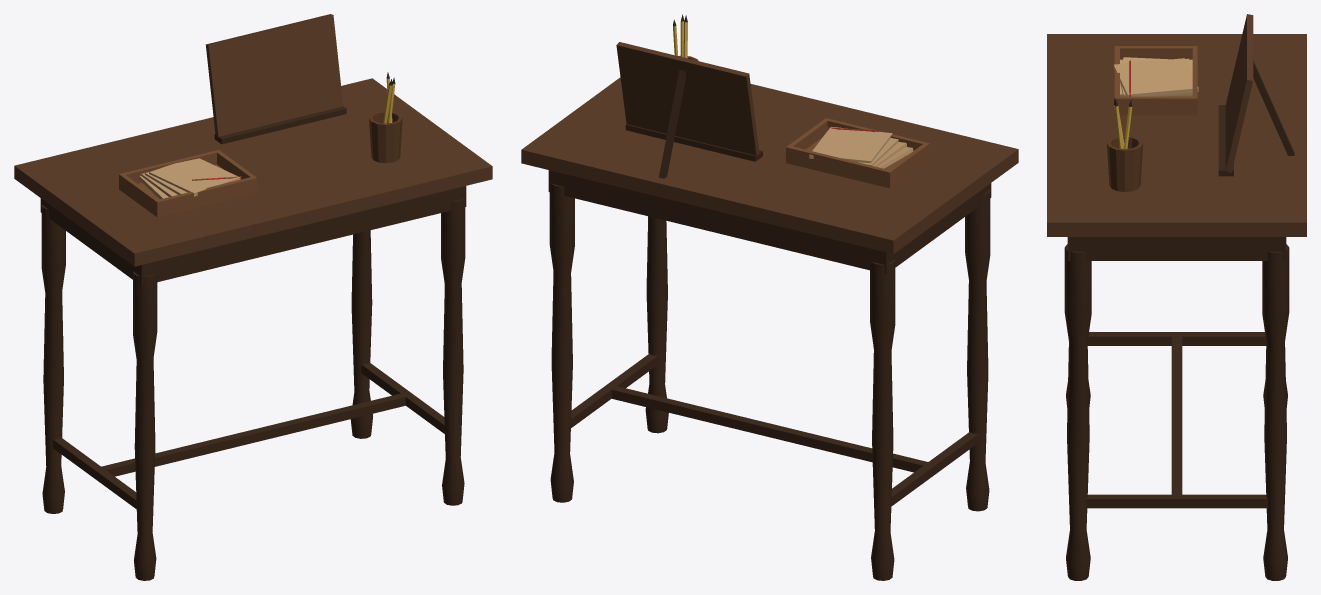
The model's file is prayer-church-desk.glb.
The picture shows the model from 3 angles, left to right: view 1: azimuth 30°, elevation 25°; view 2: azimuth 150°, elevation 25°; view 3: azimuth 270°, elevation 25°; orthographic projection. The views are drawn at different scales.
Visible parts, largest first — view 1: oak0, oak21, oakDark1, oakDark2_mx, oakDark2, oakDark2_mx_mz, oakDark4, box5, oakDark2_mz, plaque9, planterDark11, oakDark3_mx (+2 smaller); view 2: oak0, oak21, oakDark1, oakDark2_mx_mz, oakDark2_mz, oakDark2_mx, oakDark4, oakDark2, box5, plaque9, oakDark3_mx, oakDark3 (+2 smaller); view 3: oak0, oakDark2, oakDark2_mz, oakDark1, box5, oakDark3, oak21, plaque9, oakDark3_mx, oakDark4, planterDark11, oakDark22 (+1 smaller).
Part boxes in pixels (x1,y1,x2,y2): oak0: [14, 78, 492, 266]; oak21: [205, 14, 343, 137]; oakDark1: [40, 186, 466, 285]; oakDark2_mx: [133, 271, 157, 580]; oakDark2: [441, 198, 465, 505]; oakDark2_mx_mz: [41, 205, 65, 513]; oakDark4: [97, 392, 409, 476]; box5: [119, 150, 257, 217]; oakDark2_mz: [350, 230, 372, 438]; plaque9: [149, 158, 240, 196]; planterDark11: [369, 111, 402, 163]; oakDark3_mx: [53, 437, 136, 508]; oak0: [521, 77, 1018, 253]; oak21: [616, 42, 759, 155]; oakDark1: [548, 170, 991, 274]; oakDark2_mx_mz: [870, 259, 895, 580]; oakDark2_mz: [549, 183, 574, 502]; oakDark2_mx: [965, 190, 990, 511]; oakDark4: [611, 386, 932, 472]; oakDark2: [645, 216, 668, 433]; box5: [786, 118, 929, 188]; plaque9: [809, 127, 892, 162]; oakDark3_mx: [891, 432, 978, 506]; oakDark3: [571, 353, 657, 427]; oak0: [1047, 34, 1306, 236]; oakDark2: [1064, 244, 1091, 580]; oakDark2_mz: [1262, 244, 1289, 580]; oakDark1: [1068, 237, 1285, 260]; box5: [1114, 46, 1197, 115]; oakDark3: [1085, 494, 1268, 508]; oak21: [1225, 14, 1253, 172]; plaque9: [1113, 58, 1198, 96]; oakDark3_mx: [1087, 332, 1266, 345]; oakDark4: [1171, 336, 1182, 496]; planterDark11: [1107, 135, 1143, 191]; oakDark22: [1253, 61, 1294, 155].
Bounding box in the file's own units: 0.86 × 1.01 × 0.5.
